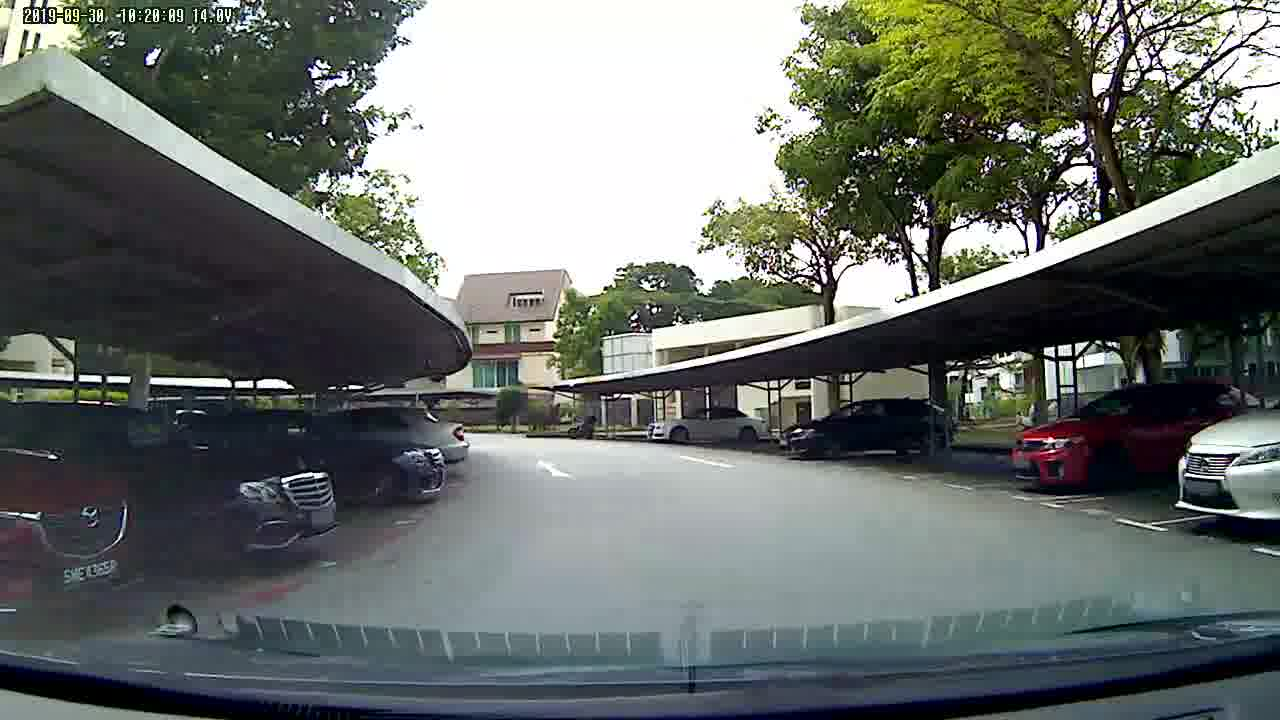car: (127, 399, 343, 557), (1, 444, 147, 624), (1009, 385, 1173, 495), (1177, 383, 1280, 538), (783, 400, 963, 464), (644, 404, 776, 452)
